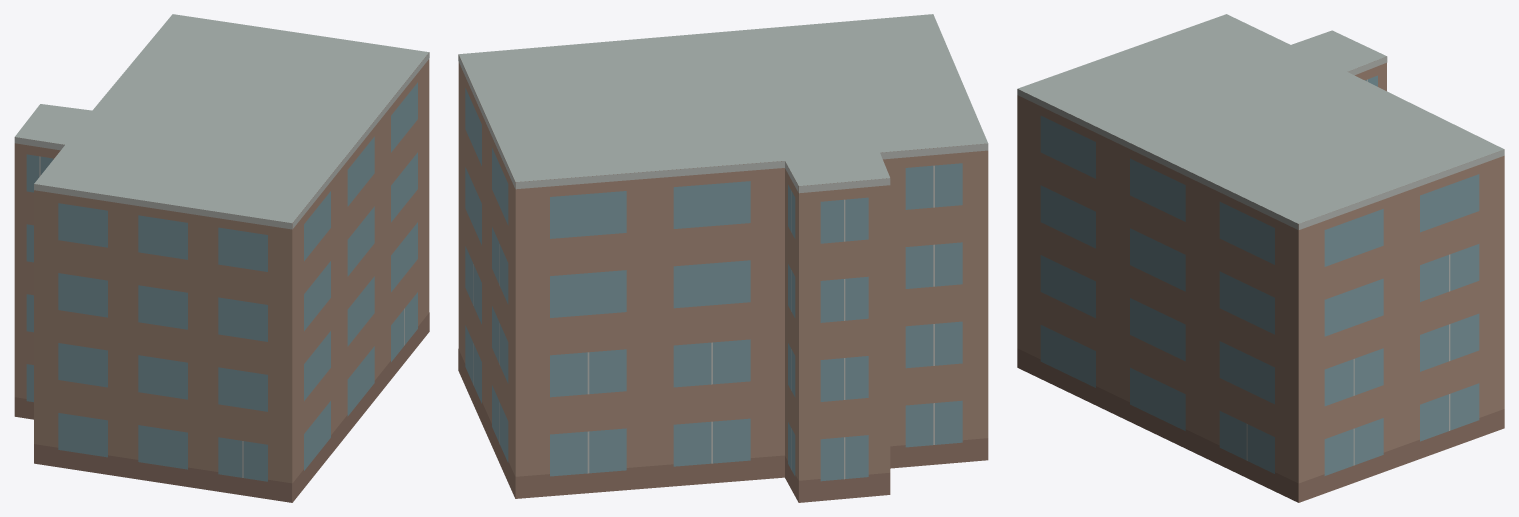
File: survey-upis-32824840.glb
3 renders of one model, left to right at view 1: azimuth 30°, elevation 25°; view 2: azimuth 150°, elevation 25°; view 3: azimuth 270°, elevation 25°, orthographic. The views are drawn at different scales.
Visible parts, largest first — view 1: survey-upis-32824840.tmp; view 2: survey-upis-32824840.tmp; view 3: survey-upis-32824840.tmp.
Boxes of the visible parts, left/top/right/bottom form: survey-upis-32824840.tmp: left=14, top=14, right=429, bottom=502; survey-upis-32824840.tmp: left=458, top=14, right=988, bottom=502; survey-upis-32824840.tmp: left=1017, top=14, right=1504, bottom=502.
Size of the model in its own units: 17.61 by 10.9 by 17.27.
